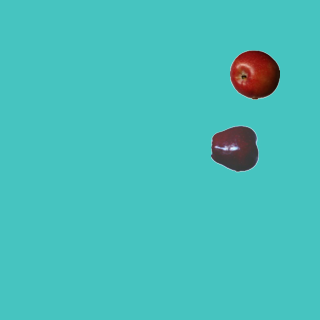Apple Braeburn: (229, 49, 279, 99)
Apple Red Delicious: (210, 123, 260, 173)
